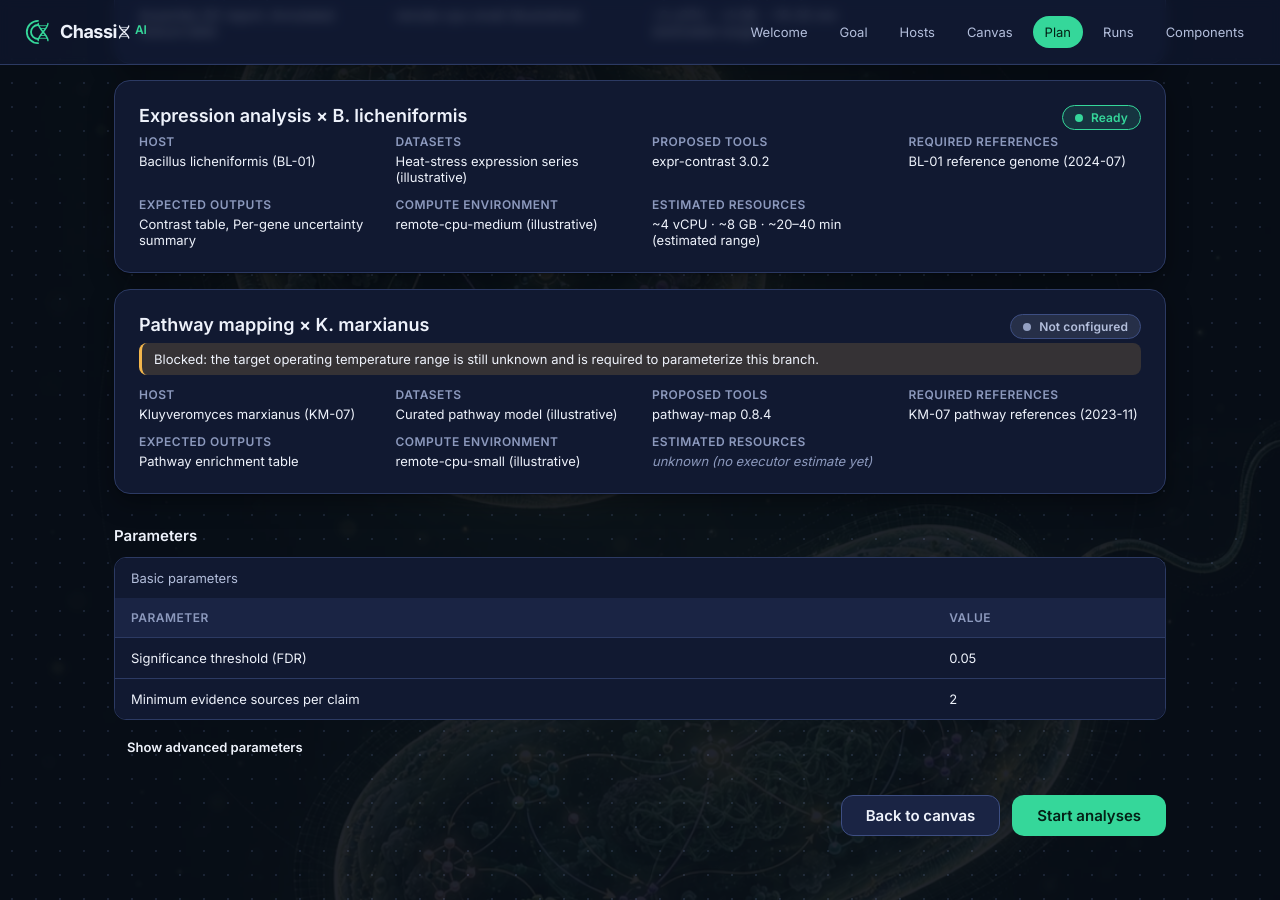
Test: PlanReviewPage (Step 3.2, Screen 4 / BF-05) › freezes the manifest on launch and shows the launched (immutable) banner
(page scrolled)
Click the button "Start analyses": (1089, 816) [1012,795,1166,836]
(page scrolled)
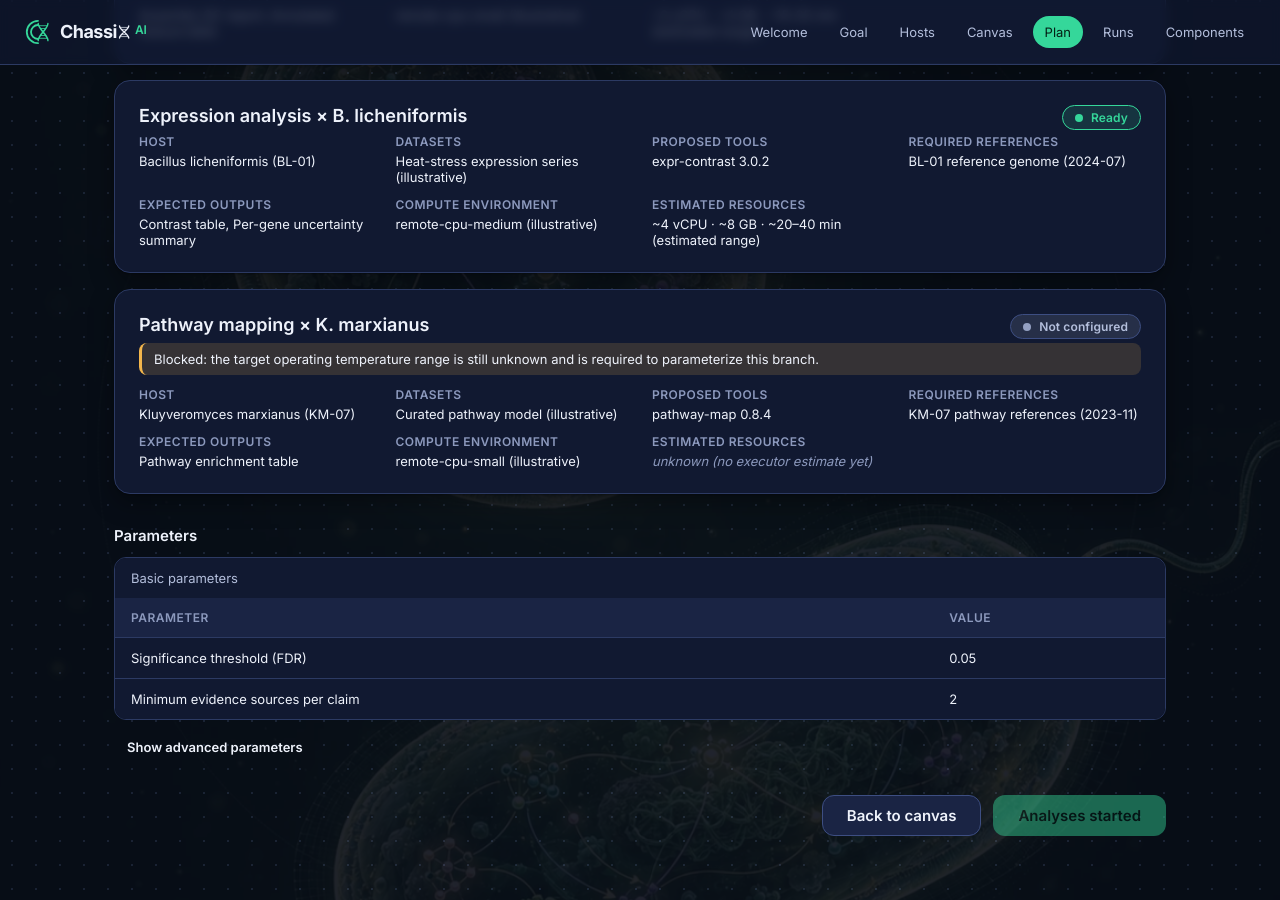
Result: the button "Analyses started" is disabled at [994,795,1166,836]
